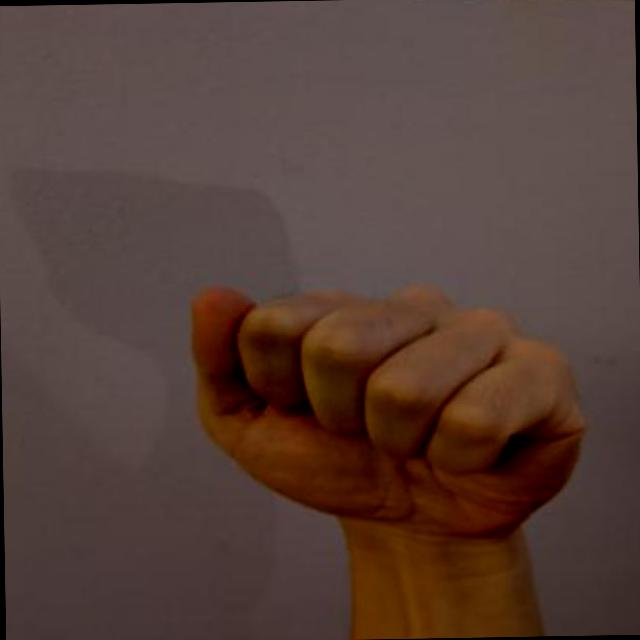A: (168, 258, 611, 553)
